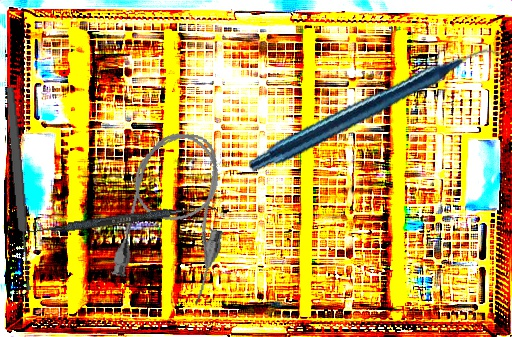Cannula: (108, 123, 243, 307)
Handpiece: (247, 9, 504, 212)
Spatula Surgical: (27, 199, 217, 240)
Surgical Spoon: (4, 86, 34, 292)
